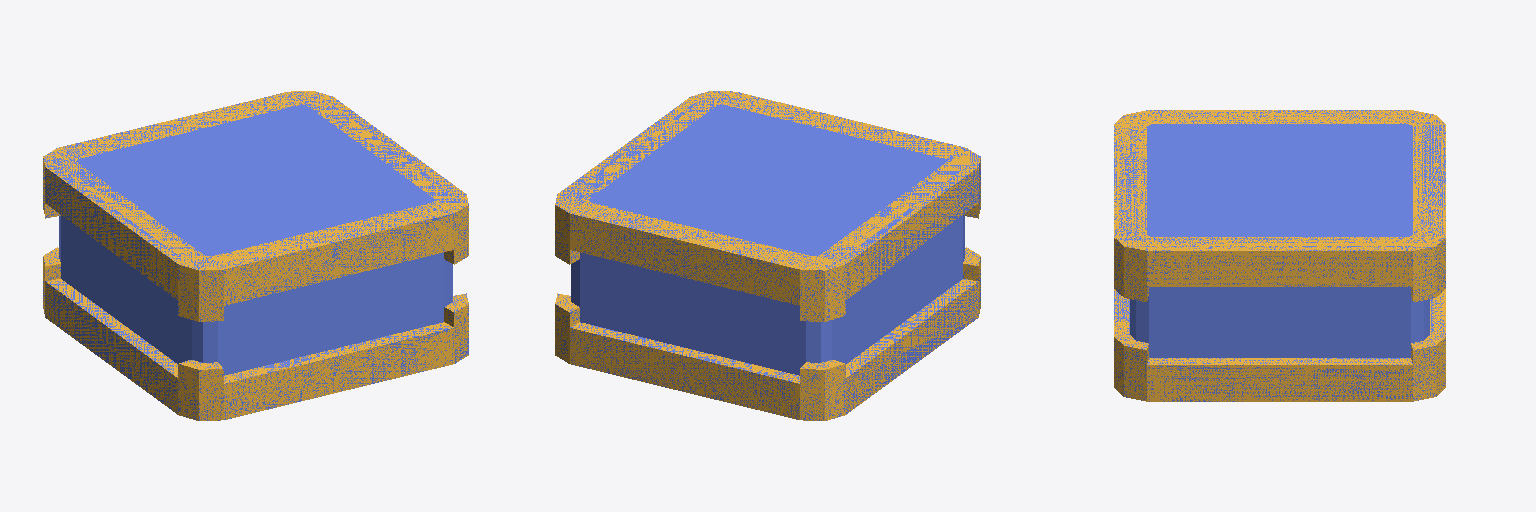
The model's file is blockMovingBlue.obj.
The picture shows the model from 3 angles: view 1: azimuth 30°, elevation 25°; view 2: azimuth 150°, elevation 25°; view 3: azimuth 270°, elevation 25°; orthographic projection.
Parts seen in each view (by area): view 1: blockMovingBlue; view 2: blockMovingBlue; view 3: blockMovingBlue.
Boxes of the visible parts, x1=… form: blockMovingBlue: x1=43, y1=91, x2=468, y2=420; blockMovingBlue: x1=555, y1=91, x2=980, y2=420; blockMovingBlue: x1=1114, y1=110, x2=1445, y2=401.
Size of the model in its own units: 1 by 0.5 by 1.